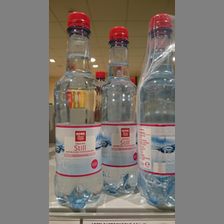water: (56, 10, 105, 211), (136, 12, 175, 209), (99, 24, 138, 195)
